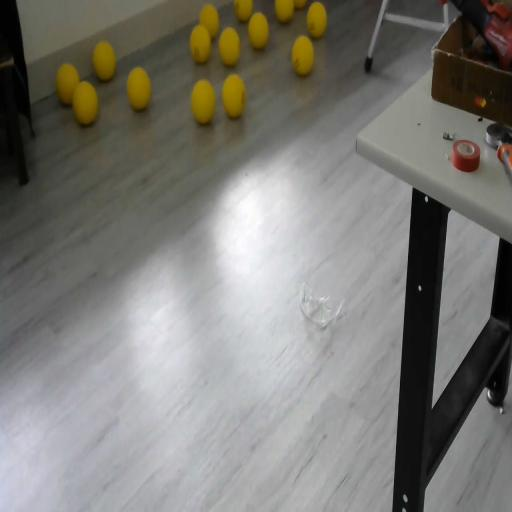FUEL: (71, 80, 99, 126), (190, 78, 216, 124), (221, 72, 246, 118), (126, 66, 152, 110), (92, 39, 116, 82), (291, 34, 314, 77), (218, 25, 240, 67), (247, 10, 270, 50), (198, 2, 220, 41), (306, 1, 328, 38), (274, 0, 294, 23), (234, 0, 254, 22), (292, 0, 308, 9)
